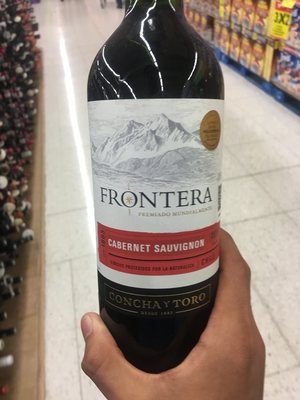frontera cabernet sauvignon: (78, 5, 237, 370)
